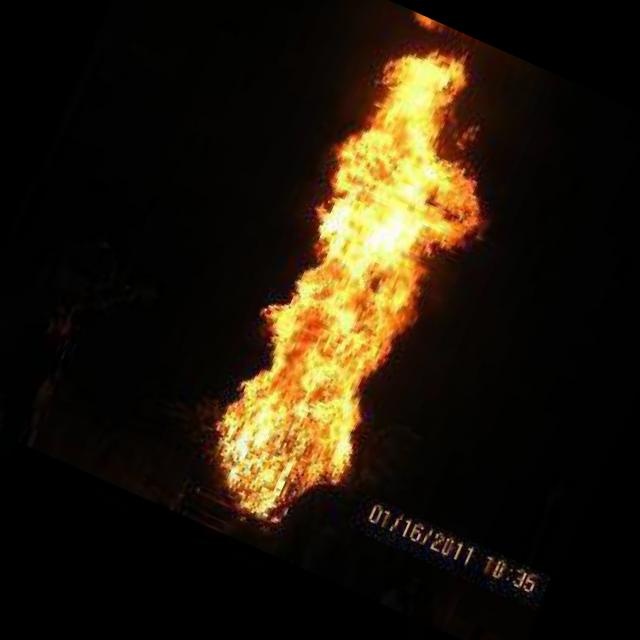fire: (185, 23, 538, 551)
